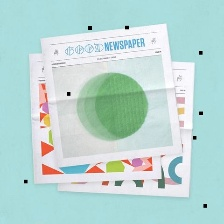news_paper: (38, 22, 184, 171), (53, 59, 200, 201), (25, 50, 167, 187)
